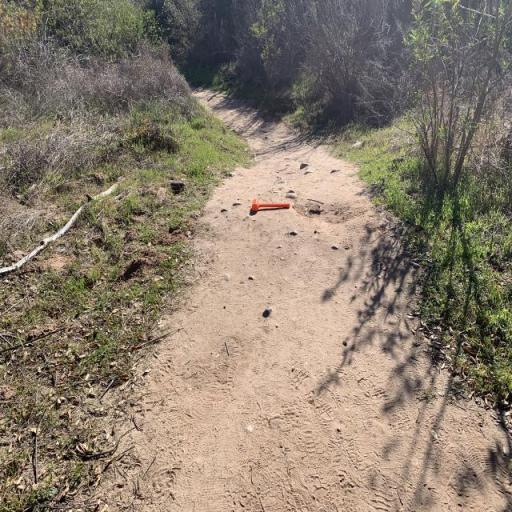mallet: (252, 198, 290, 212)
